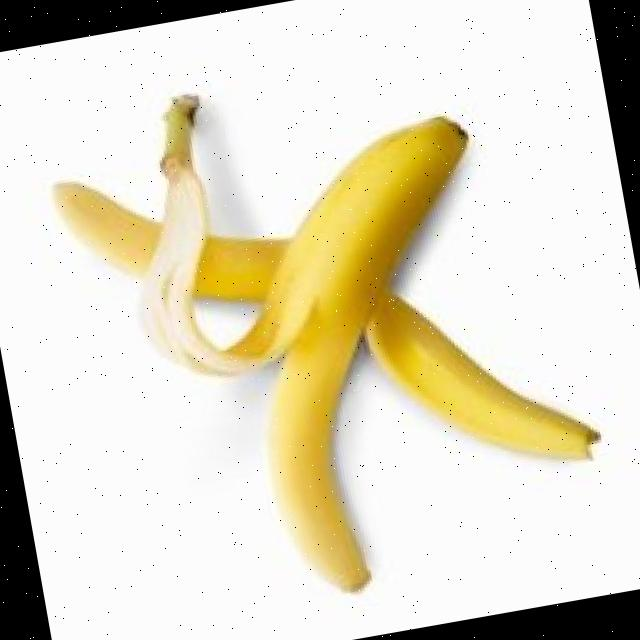banana-peel: (38, 30, 620, 631)
